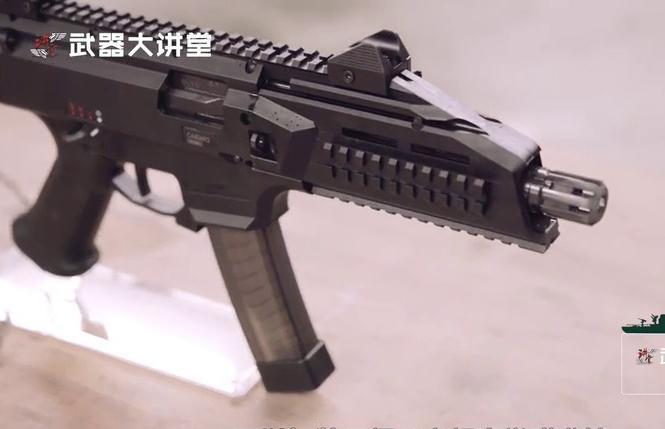gun: (1, 0, 665, 429)
